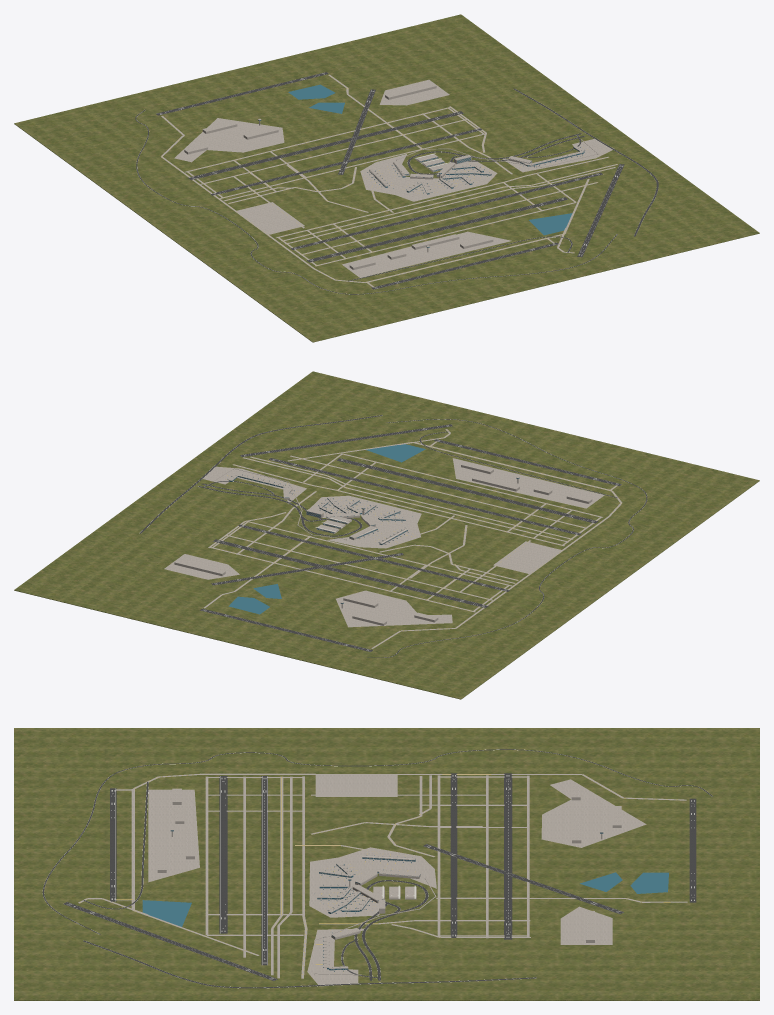
File: ohare.glb
The picture shows the model from 3 angles, top to bottom: view 1: azimuth 30°, elevation 25°; view 2: azimuth 150°, elevation 25°; view 3: azimuth 270°, elevation 25°; orthographic projection. The views are drawn at different scales.
Parts seen in each view (by area): view 1: 01 Terrain | Grass | muted prairie, 04 Aprons | Apron concrete, 03 Taxiways | Taxiway concrete, 02 Runways | Runway asphalt, 11 Airfield readability | Runway shoulder, 11 Airfield readability | Service road, 07 Landside | Warm concrete, 07 Landside | Retention water, 07 Landside | Terminal roof silver, 05 Terminals | Terminal roof silver; view 2: 01 Terrain | Grass | muted prairie, 04 Aprons | Apron concrete, 03 Taxiways | Taxiway concrete, 02 Runways | Runway asphalt, 11 Airfield readability | Runway shoulder, 11 Airfield readability | Service road, 07 Landside | Warm concrete, 07 Landside | Retention water, 07 Landside | Terminal roof silver, 05 Terminals | Terminal roof silver; view 3: 01 Terrain | Grass | muted prairie, 04 Aprons | Apron concrete, 03 Taxiways | Taxiway concrete, 02 Runways | Runway asphalt, 11 Airfield readability | Runway shoulder, 11 Airfield readability | Service road, 07 Landside | Retention water, 07 Landside | Terminal roof silver, 05 Terminals | Terminal roof silver, 11 Airfield readability | White markings, 07 Landside | Warm concrete, 05 Terminals | Blue glazing.
Part boxes in pixels (x1,y1,x2,y2): 01 Terrain | Grass | muted prairie: (14, 14, 759, 342); 04 Aprons | Apron concrete: (174, 79, 614, 277); 03 Taxiways | Taxiway concrete: (161, 74, 617, 287); 02 Runways | Runway asphalt: (156, 72, 623, 289); 11 Airfield readability | Runway shoulder: (156, 72, 624, 289); 11 Airfield readability | Service road: (135, 88, 658, 294); 07 Landside | Warm concrete: (184, 86, 598, 269); 07 Landside | Retention water: (288, 84, 572, 235); 07 Landside | Terminal roof silver: (184, 83, 492, 267); 05 Terminals | Terminal roof silver: (369, 146, 584, 193); 01 Terrain | Grass | muted prairie: (14, 371, 759, 699); 04 Aprons | Apron concrete: (164, 458, 604, 627); 03 Taxiways | Taxiway concrete: (203, 429, 622, 648); 02 Runways | Runway asphalt: (200, 424, 621, 651); 11 Airfield readability | Runway shoulder: (200, 424, 621, 651); 11 Airfield readability | Service road: (140, 415, 647, 657); 07 Landside | Warm concrete: (174, 465, 592, 625); 07 Landside | Retention water: (228, 444, 425, 614); 07 Landside | Terminal roof silver: (174, 462, 591, 623); 05 Terminals | Terminal roof silver: (229, 474, 407, 543); 01 Terrain | Grass | muted prairie: (14, 728, 759, 1000); 04 Aprons | Apron concrete: (148, 775, 646, 986); 03 Taxiways | Taxiway concrete: (78, 773, 687, 978); 02 Runways | Runway asphalt: (64, 773, 695, 980); 11 Airfield readability | Runway shoulder: (63, 773, 696, 981); 11 Airfield readability | Service road: (42, 749, 712, 988); 07 Landside | Retention water: (142, 872, 668, 926); 07 Landside | Terminal roof silver: (157, 785, 621, 940); 05 Terminals | Terminal roof silver: (317, 855, 420, 968); 11 Airfield readability | White markings: (42, 749, 699, 988); 07 Landside | Warm concrete: (157, 797, 621, 975); 05 Terminals | Blue glazing: (317, 857, 420, 970).
Bounding box in the file's own units: 5700 × 93 × 6600.
Materials: 13 (8 with a texture image).
